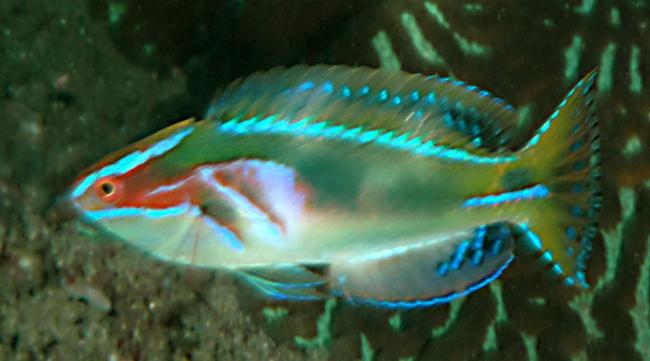fish: (67, 65, 602, 308)
